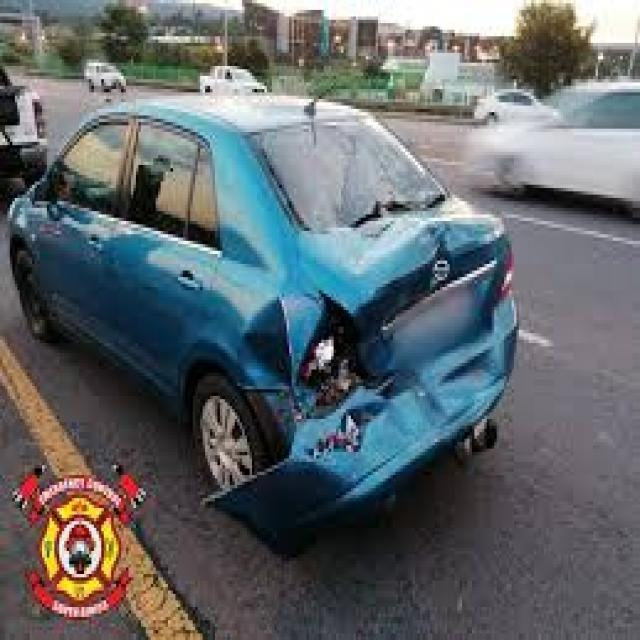damaged-trunk: (310, 198, 506, 347)
